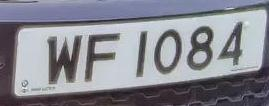0: (150, 25, 187, 77)
1: (128, 25, 152, 81)
4: (215, 17, 249, 72)
8: (184, 21, 217, 74)
F: (81, 27, 124, 88)
W: (42, 28, 84, 90)
